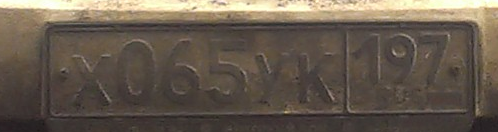character: (206, 36, 249, 103), (118, 37, 158, 106), (296, 47, 338, 111), (71, 52, 115, 113), (163, 37, 201, 104), (384, 30, 419, 95), (417, 30, 451, 93), (256, 50, 290, 107), (355, 35, 384, 95)
